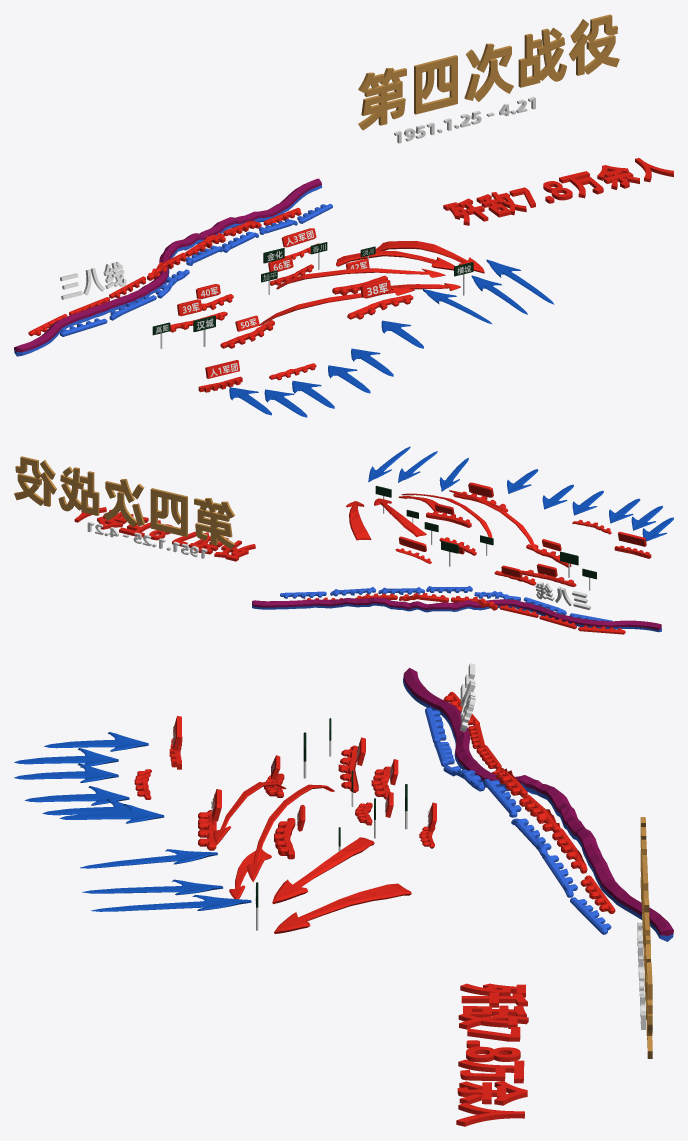
The model's file is 4-animate.glb.
The picture shows the model from 3 angles, top to bottom: view 1: azimuth 30°, elevation 25°; view 2: azimuth 150°, elevation 25°; view 3: azimuth 270°, elevation 25°; orthographic projection. The views are drawn at different scales.
Visible parts, largest first — view 1: 文本.020, 38line, 文本.029, 文本.021, 文本.016, 贝塞尔曲线.092, 贝塞尔曲线.143, 贝塞尔曲线.087, 贝塞尔曲线.090; view 2: 文本.020, 38line, 文本.029, 文本.021, 文本.016, 贝塞尔曲线.143, 贝塞尔曲线.087, 贝塞尔曲线.090, 贝塞尔曲线.092, 贝塞尔曲线.142, 贝塞尔曲线.086, 贝塞尔曲线.097 (+9 smaller); view 3: 文本.029, 38line, 文本.020, 贝塞尔曲线.143, 贝塞尔曲线.087, 贝塞尔曲线.142, 贝塞尔曲线.141, 贝塞尔曲线.140, 贝塞尔曲线.092, 贝塞尔曲线.136, 贝塞尔曲线.077, 贝塞尔曲线.139 (+5 smaller).
Boxes of the visible parts, x1=… form: 文本.020: x1=358, y1=14, x2=619, y2=130; 38line: x1=14, y1=178, x2=322, y2=356; 文本.029: x1=443, y1=158, x2=673, y2=225; 文本.021: x1=394, y1=96, x2=535, y2=143; 文本.016: x1=60, y1=262, x2=126, y2=299; 贝塞尔曲线.092: x1=276, y1=268, x2=445, y2=289; 贝塞尔曲线.143: x1=375, y1=241, x2=484, y2=273; 贝塞尔曲线.087: x1=336, y1=250, x2=454, y2=270; 贝塞尔曲线.090: x1=259, y1=287, x2=414, y2=325; 文本.020: x1=14, y1=456, x2=235, y2=549; 38line: x1=252, y1=597, x2=661, y2=632; 文本.029: x1=74, y1=504, x2=255, y2=561; 文本.021: x1=87, y1=521, x2=207, y2=558; 文本.016: x1=535, y1=581, x2=590, y2=609; 贝塞尔曲线.143: x1=346, y1=501, x2=371, y2=540; 贝塞尔曲线.087: x1=374, y1=498, x2=426, y2=536; 贝塞尔曲线.090: x1=449, y1=490, x2=536, y2=550; 贝塞尔曲线.092: x1=401, y1=493, x2=492, y2=537; 贝塞尔曲线.142: x1=368, y1=446, x2=410, y2=482; 贝塞尔曲线.086: x1=426, y1=511, x2=471, y2=527; 贝塞尔曲线.097: x1=399, y1=593, x2=448, y2=602; 文本.029: x1=456, y1=983, x2=528, y2=1126; 38line: x1=403, y1=668, x2=673, y2=941; 文本.020: x1=640, y1=817, x2=652, y2=1058; 贝塞尔曲线.143: x1=274, y1=883, x2=411, y2=933; 贝塞尔曲线.087: x1=272, y1=837, x2=374, y2=904; 贝塞尔曲线.142: x1=91, y1=895, x2=251, y2=911; 贝塞尔曲线.141: x1=82, y1=879, x2=223, y2=895; 贝塞尔曲线.140: x1=80, y1=849, x2=217, y2=868; 贝塞尔曲线.092: x1=247, y1=784, x2=334, y2=882; 贝塞尔曲线.136: x1=14, y1=763, x2=118, y2=782; 贝塞尔曲线.077: x1=44, y1=732, x2=148, y2=751; 贝塞尔曲线.139: x1=59, y1=804, x2=164, y2=823.
Bounding box in the file's own units: 52.5 × 8.25 × 32.01.
